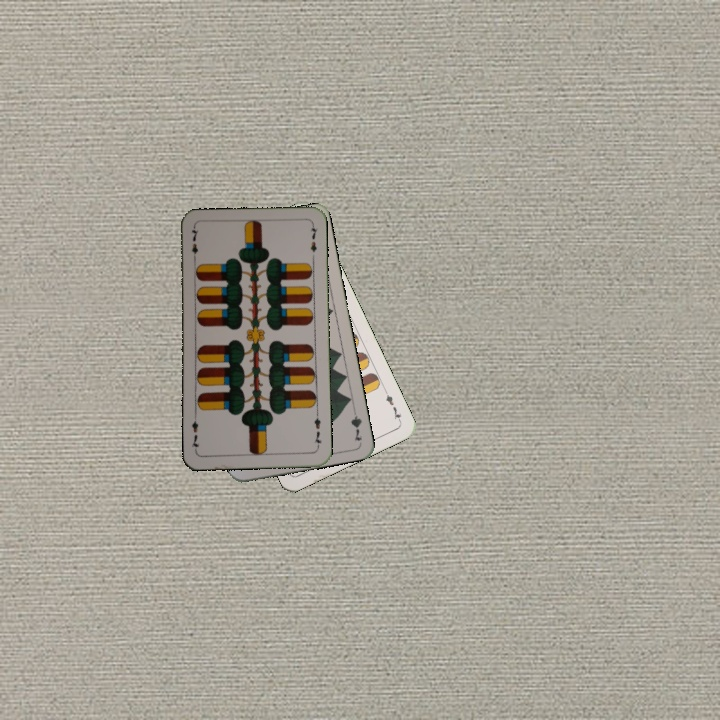E7: (380, 386, 404, 424), (310, 410, 324, 451), (187, 224, 201, 265)
G7: (347, 403, 364, 444)
